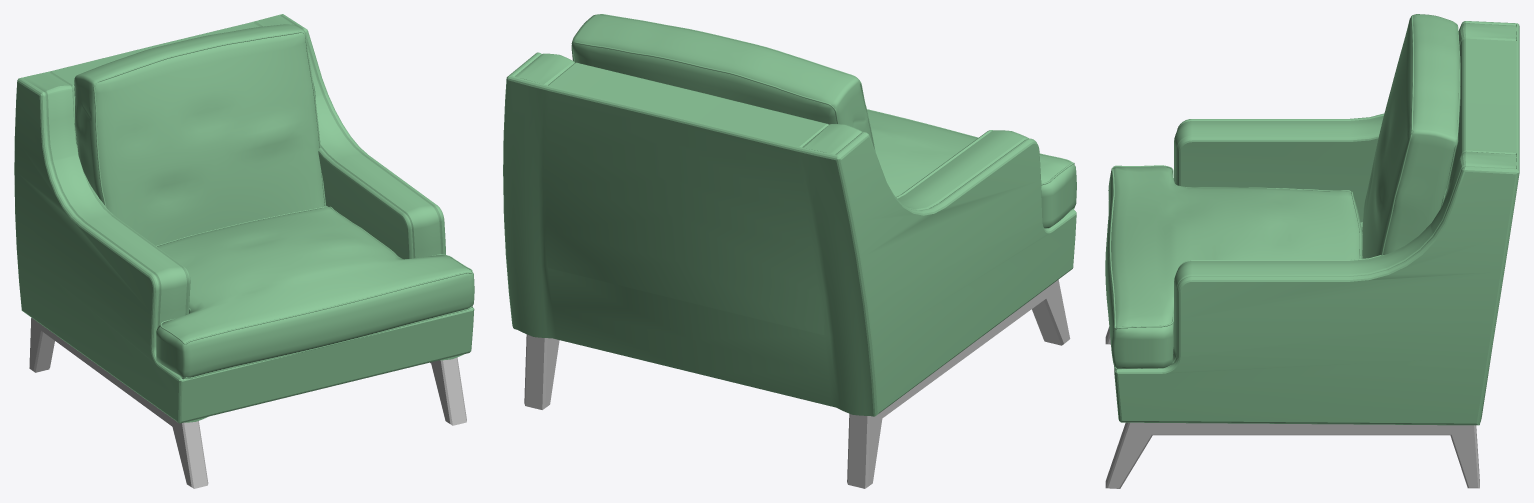
3 views of the same model, side by side, from view 1: azimuth 30°, elevation 25°; view 2: azimuth 150°, elevation 25°; view 3: azimuth 270°, elevation 25° (orthographic). The views are drawn at different scales.
Parts seen in each view (by area): view 1: buffer-0-mesh-0_1_1, buffer-0-mesh-0_0; view 2: buffer-0-mesh-0_1_1, buffer-0-mesh-0_0; view 3: buffer-0-mesh-0_1_1, buffer-0-mesh-0_0.
Part boxes in pixels (x1,y1,x2,y2): buffer-0-mesh-0_1_1: (14,14,474,423); buffer-0-mesh-0_0: (29,318,466,488); buffer-0-mesh-0_1_1: (503,14,1076,416); buffer-0-mesh-0_0: (524,279,1070,488); buffer-0-mesh-0_1_1: (1105,14,1519,425); buffer-0-mesh-0_0: (1105,327,1479,488).
Bounding box in the file's own units: 0.8178 × 0.8074 × 0.8617.
